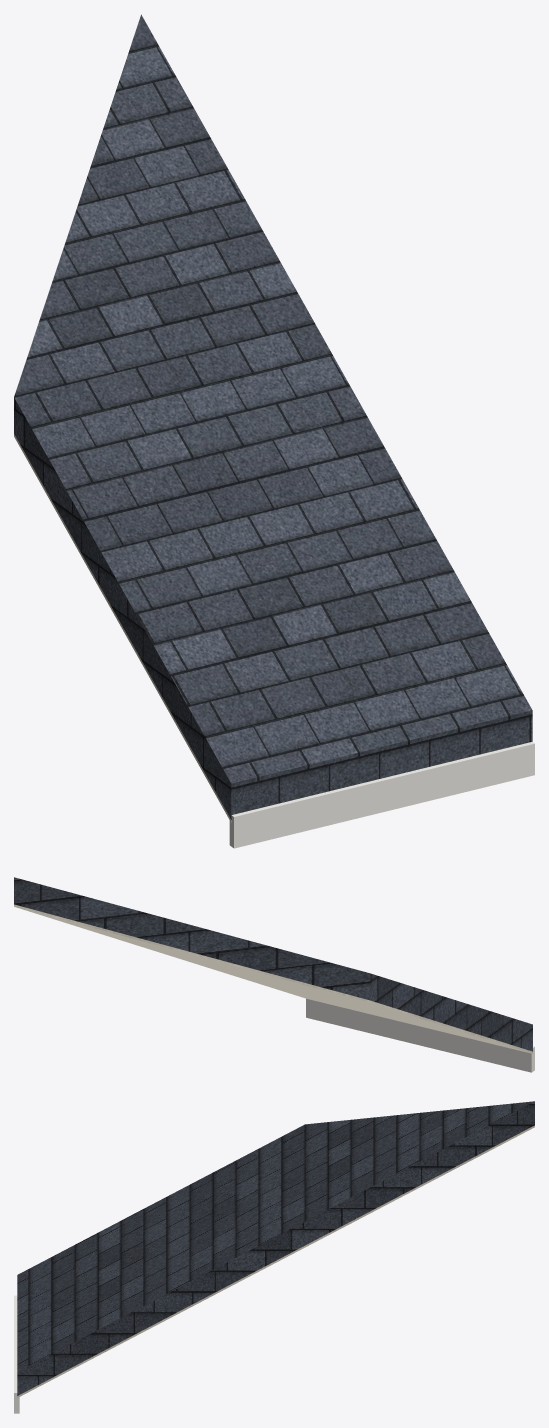
Rendered from roof_main_5_l.glb.
3 renders of one model, top to bottom at view 1: azimuth 30°, elevation 25°; view 2: azimuth 150°, elevation 25°; view 3: azimuth 270°, elevation 25°, orthographic. The views are drawn at different scales.
Parts seen in each view (by area): view 1: roof_main_5_l_shingle, roof_main_5_l_trim; view 2: roof_main_5_l_shingle, roof_main_5_l_plaster, roof_main_5_l_trim; view 3: roof_main_5_l_shingle, roof_main_5_l_plaster, roof_main_5_l_trim.
Boxes of the visible parts, x1=… form: roof_main_5_l_shingle: x1=14, y1=14, x2=532, y2=819; roof_main_5_l_trim: x1=229, y1=742, x2=534, y2=848; roof_main_5_l_shingle: x1=14, y1=877, x2=532, y2=1051; roof_main_5_l_plaster: x1=14, y1=904, x2=532, y2=1053; roof_main_5_l_trim: x1=306, y1=998, x2=534, y2=1072; roof_main_5_l_shingle: x1=17, y1=1101, x2=534, y2=1395; roof_main_5_l_plaster: x1=17, y1=1125, x2=534, y2=1397; roof_main_5_l_trim: x1=14, y1=1295, x2=19, y2=1413.
Bounding box in the file's own units: 2 × 3 × 4.53.
Materials: 3 (2 with a texture image).
